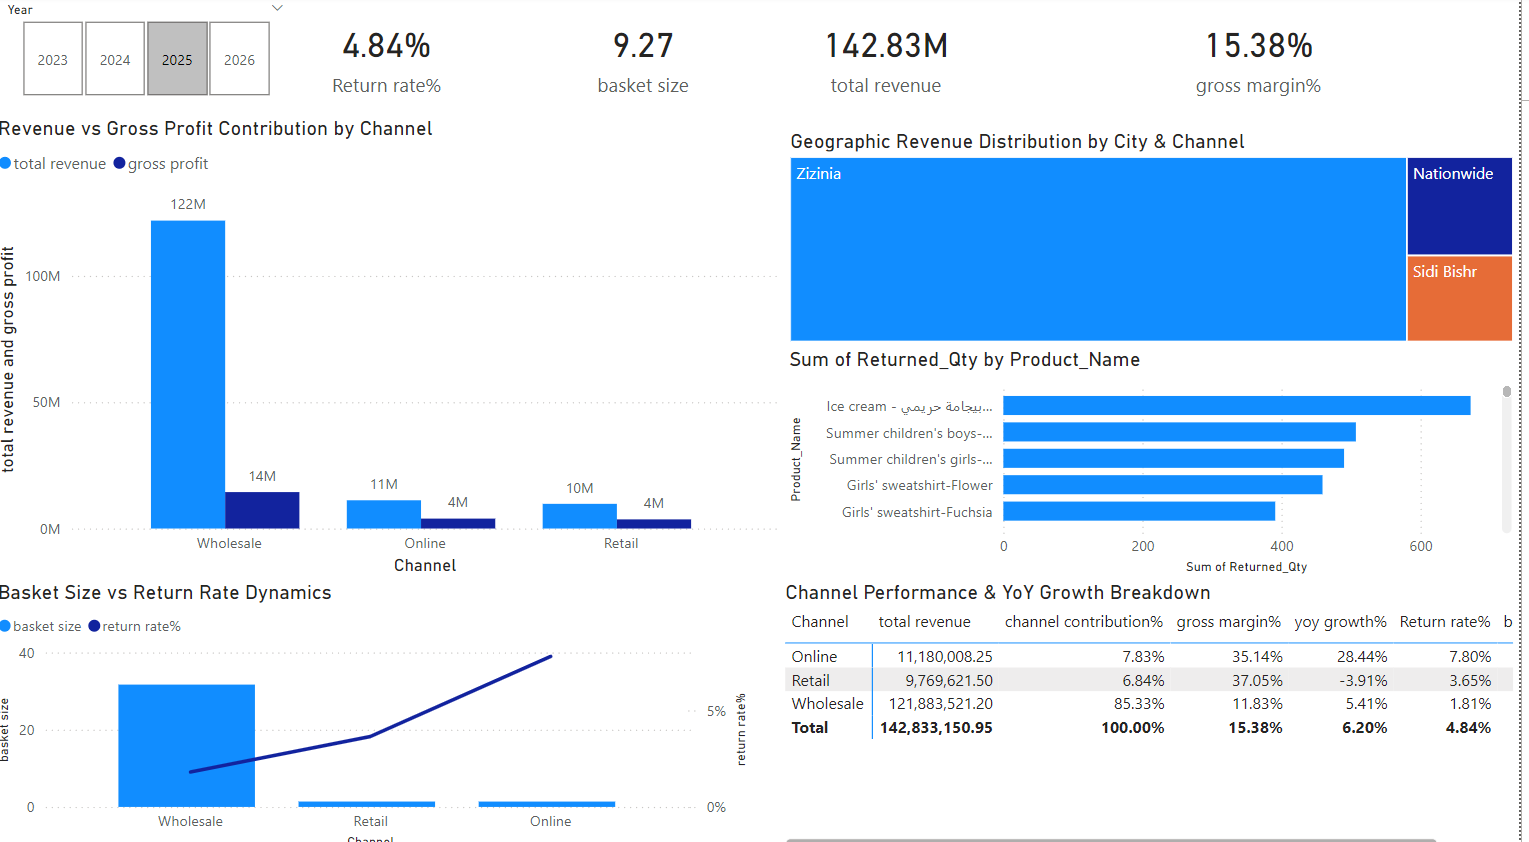

Layout of this report page (visuals, bound fields, positions):
{"tool":"powerbi","page":{"name":"Branch & Channel Performance","canvas":[1280,720],"ordinal":2},"visuals":[{"type":"card","fields":{"Values":["_measurse.Measure 2"]},"box":[245.6,0,171.5,100.2],"z":0},{"type":"card","fields":{"Values":["_measurse.gross margin%"]},"box":[912.5,0,300.5,100.2],"z":1000},{"type":"card","fields":{"Values":["_measurse.total revenue"]},"box":[653.2,0,193.5,100.2],"z":2000},{"type":"card","fields":{"Values":["_measurse.basket size"]},"box":[452.8,0,186.6,100.2],"z":3000},{"type":"clusteredColumnChart","title":"Revenue vs Gross Profit Contribution by Channel","fields":{"Category":["sales transactions.Channel"],"Y":["_measurse.total revenue","_measurse.gross profit"]},"box":[0,100.2,664.2,389.7],"z":4000},{"type":"lineClusteredColumnComboChart","title":"Basket Size vs Return Rate Dynamics","fields":{"Category":["sales transactions.Channel"],"Y":["_measurse.basket size"],"Y2":["_measurse.return rate%"]},"box":[0,489.9,639.5,230.5],"z":5000},{"type":"treemap","title":"Geographic Revenue Distribution by City & Channel","fields":{"Values":["_measurse.total revenue"],"Group":["locations.City"]},"box":[664.2,111.1,616.1,183.9],"z":6000},{"type":"pivotTable","title":"Channel Performance & YoY Growth Breakdown","fields":{"Rows":["sales transactions.Channel"],"Values":["_measurse.total revenue","_measurse.channel contribution%","_measurse.gross margin%","_measurse.yoy growth%","_measurse.Measure 2","_measurse.basket size"]},"box":[660,489.9,620.2,230.5],"z":7000},{"type":"slicer","fields":{"Values":["Dim_Date.Year"]},"box":[0,0,256.6,90.6],"z":8000},{"type":"barChart","fields":{"Y":["Sum(inventory_history.Returned_Qty)"],"Category":["inventory_history.Product_Name"]},"box":[664,295,616,195],"z":9000}]}

Visuals, with their boxes in screenshot pixels (x1, y1, x2, y2), scaled from the page's 1280x720 canvas onto the 1529x842 screenshot:
card - _measurse.Measure 2: [left=293, top=0, right=498, bottom=117]
card - _measurse.gross margin%: [left=1090, top=0, right=1449, bottom=117]
card - _measurse.total revenue: [left=780, top=0, right=1011, bottom=117]
card - _measurse.basket size: [left=541, top=0, right=764, bottom=117]
"Revenue vs Gross Profit Contribution by Channel" clusteredColumnChart: [left=0, top=117, right=793, bottom=573]
"Basket Size vs Return Rate Dynamics" lineClusteredColumnComboChart: [left=0, top=573, right=764, bottom=841]
"Geographic Revenue Distribution by City & Channel" treemap: [left=793, top=130, right=1528, bottom=345]
"Channel Performance & YoY Growth Breakdown" pivotTable: [left=788, top=573, right=1528, bottom=841]
slicer - Dim_Date.Year: [left=0, top=0, right=307, bottom=106]
barChart - Sum(inventory_history.Returned_Qty) x inventory_history.Product_Name: [left=793, top=345, right=1528, bottom=573]
